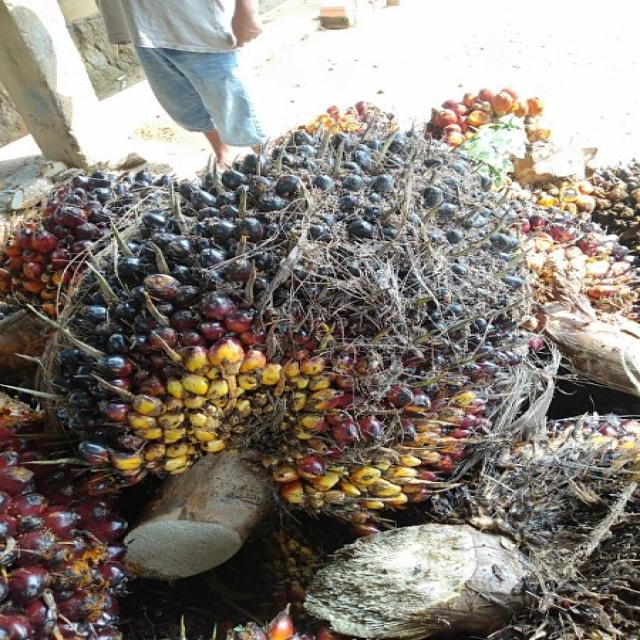fraksi 00: (49, 97, 548, 513)
